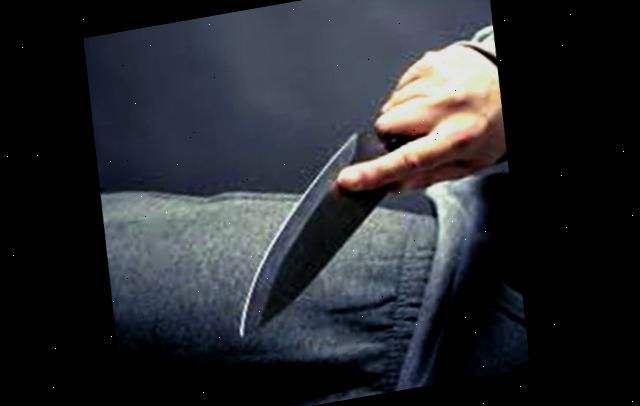pocket-knife: (195, 67, 502, 347)
